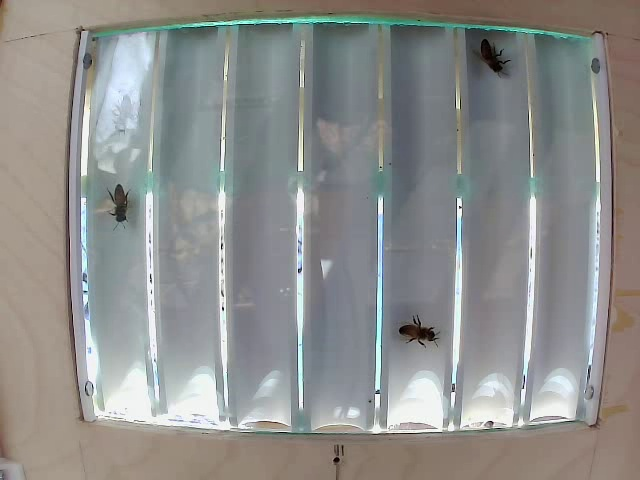bee: (396, 294, 443, 365), (100, 174, 148, 226), (481, 35, 502, 77)
